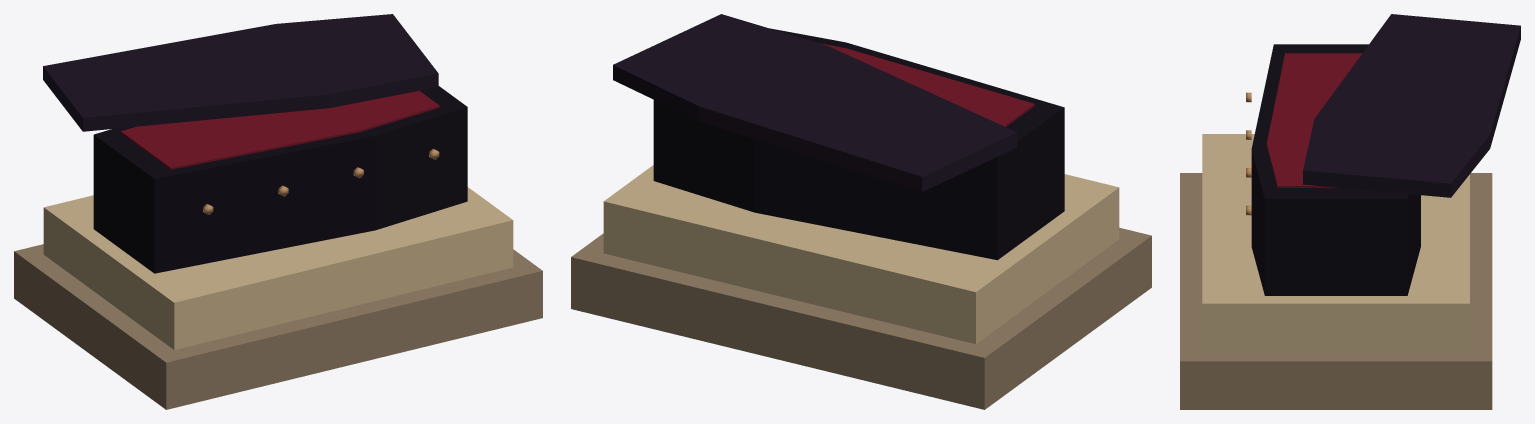
Rendered from coffin_plinth.glb.
3 views of the same model, side by side, from view 1: azimuth 30°, elevation 25°; view 2: azimuth 150°, elevation 25°; view 3: azimuth 270°, elevation 25° (orthographic). The views are drawn at different scales.
Parts seen in each view (by area): view 1: coffin_plinth; view 2: coffin_plinth; view 3: coffin_plinth.
Part boxes in pixels (x1,y1,x2,y2): coffin_plinth: (14, 14, 542, 409); coffin_plinth: (571, 14, 1151, 409); coffin_plinth: (1180, 14, 1520, 409).
Bounding box in the file's own units: 1 × 0.5375 × 0.7638.
